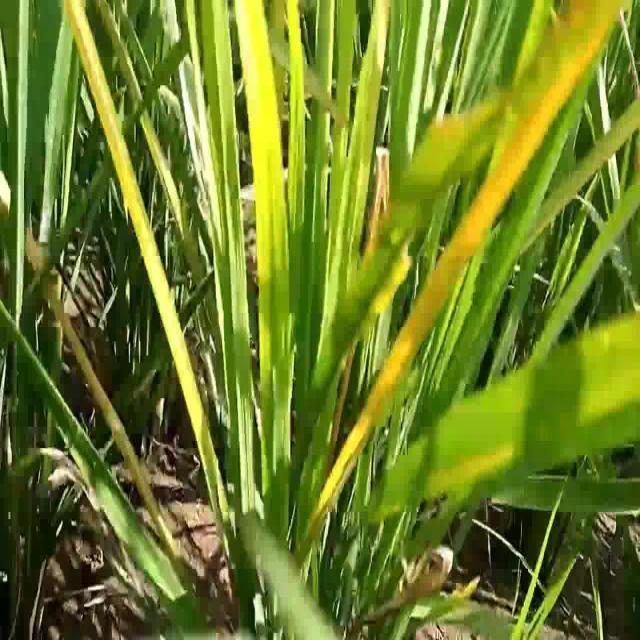Rice Tungro: (318, 3, 626, 517), (62, 3, 188, 380), (232, 2, 304, 377)
